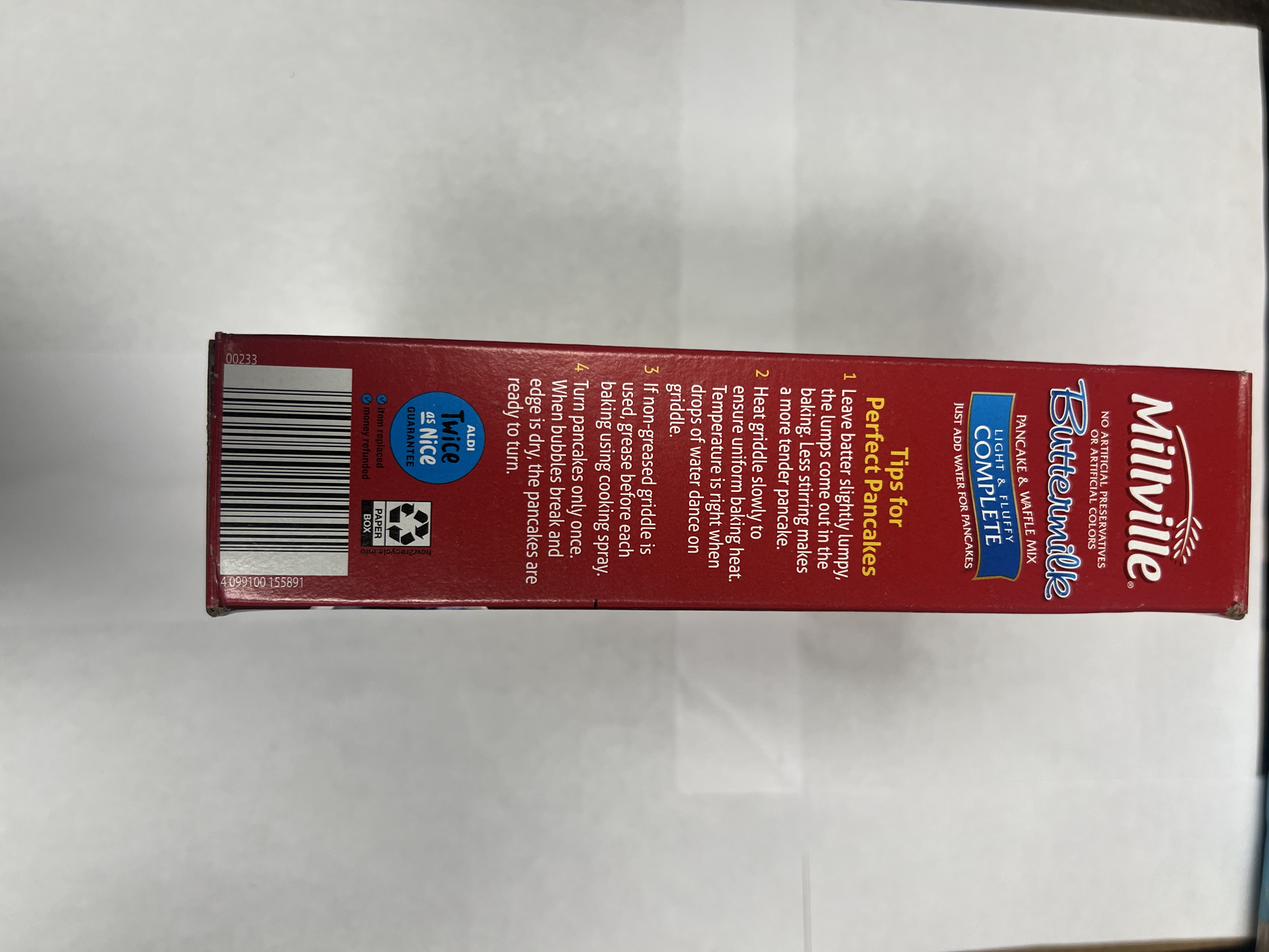packaged: (199, 326, 1269, 625)
